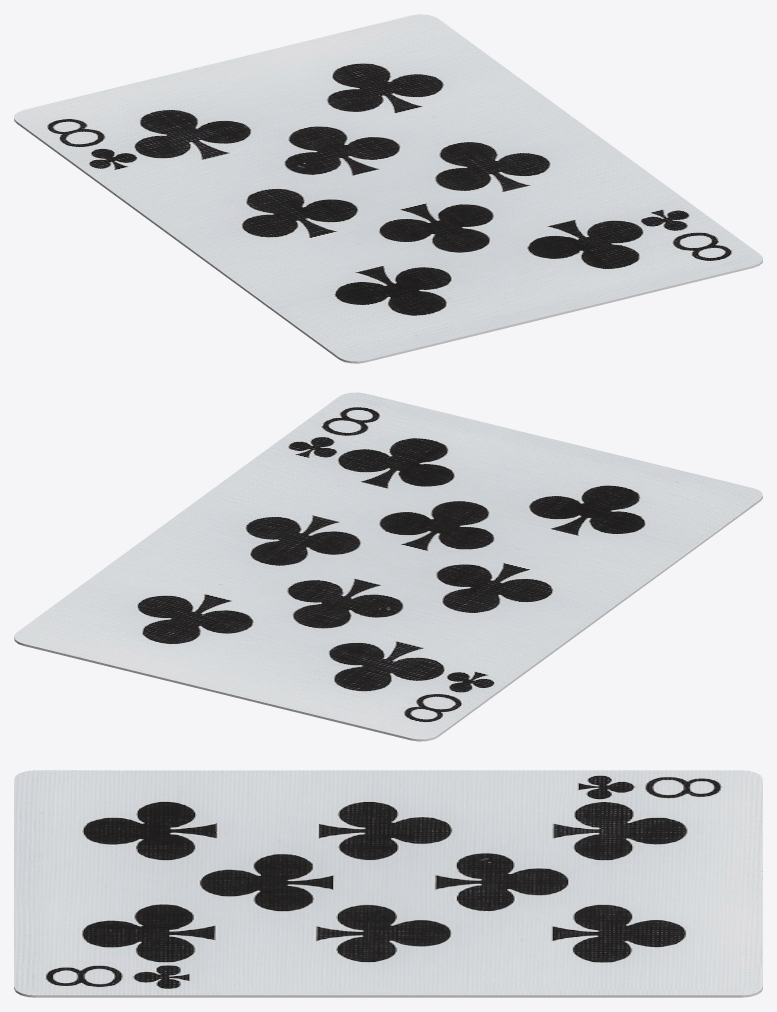
File: clubs_8.fbx
3 renders of one model, top to bottom at view 1: azimuth 30°, elevation 25°; view 2: azimuth 150°, elevation 25°; view 3: azimuth 270°, elevation 25°, orthographic. The views are drawn at different scales.
Parts seen in each view (by area): view 1: Clubs_8_2; view 2: Clubs_8_2; view 3: Clubs_8_2.
Boxes of the visible parts, <box> form: Clubs_8_2: <box>14,14,762,363</box>; Clubs_8_2: <box>14,392,762,741</box>; Clubs_8_2: <box>14,770,762,997</box>.
Bounding box in the file's own units: 6.26 × 8.8 × 0.029.
3 materials, 2 textured.
